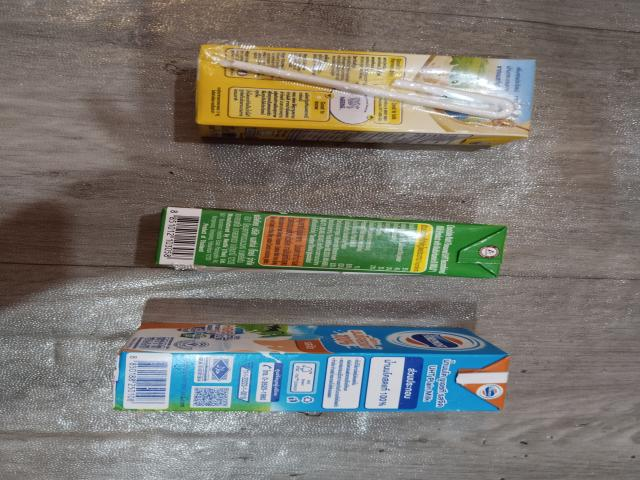drink_box: (103, 318, 518, 419), (186, 37, 557, 142), (141, 197, 525, 283)
